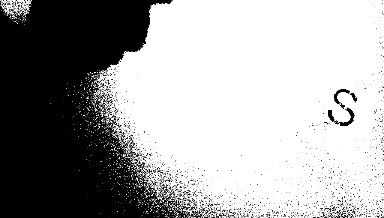S: (323, 83, 361, 128)
